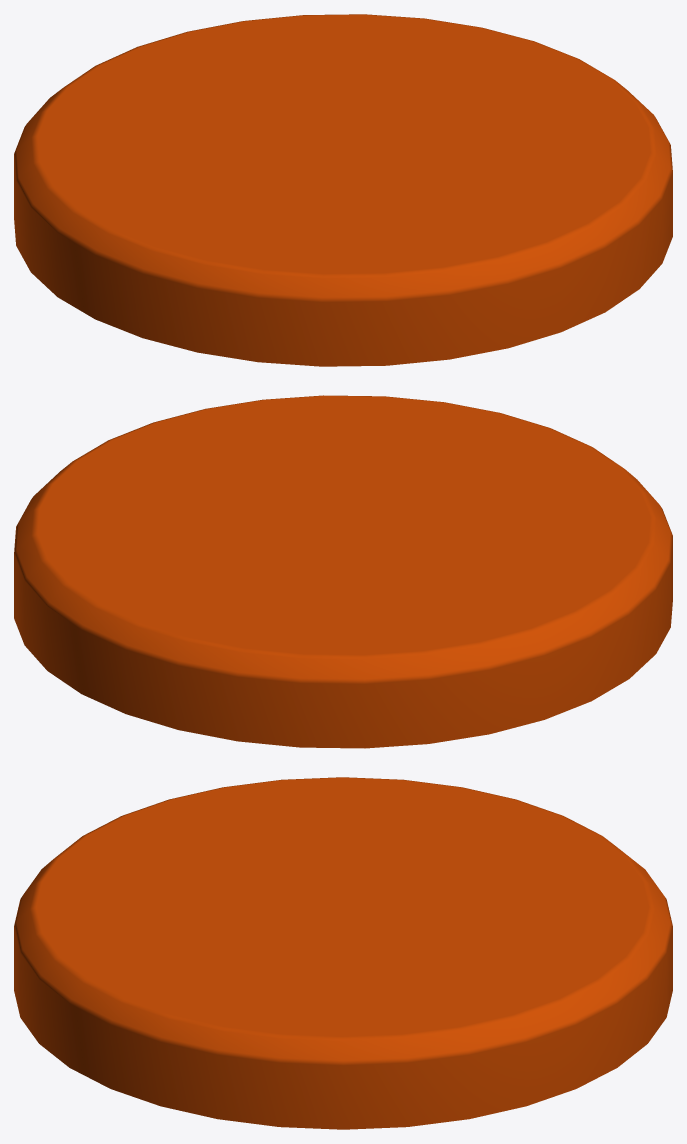
File: SM_Button.FBX
3 renders of one model, top to bottom at view 1: azimuth 30°, elevation 25°; view 2: azimuth 150°, elevation 25°; view 3: azimuth 270°, elevation 25°, orthographic.
Visible parts, largest first — view 1: SM_Button; view 2: SM_Button; view 3: SM_Button.
Boxes of the visible parts, bbox=[...] form: SM_Button: bbox=[14, 14, 672, 366]; SM_Button: bbox=[14, 395, 672, 748]; SM_Button: bbox=[14, 777, 672, 1129].
Size of what is drawn, in the model's own units: 112 by 112 by 15.59.
